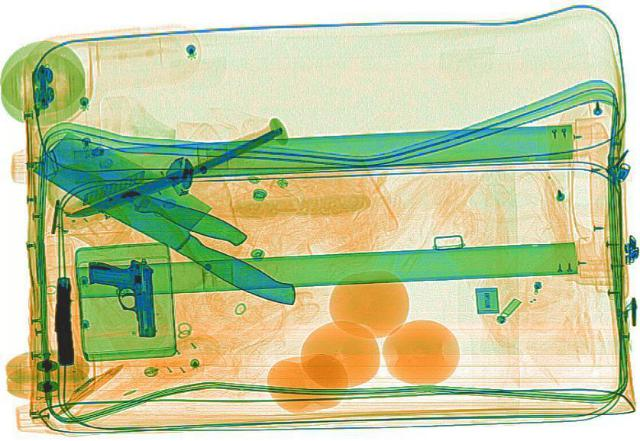Gun: (86, 257, 156, 336), (50, 277, 76, 364)
Knife: (18, 125, 332, 314), (26, 146, 252, 249), (59, 126, 291, 221)
